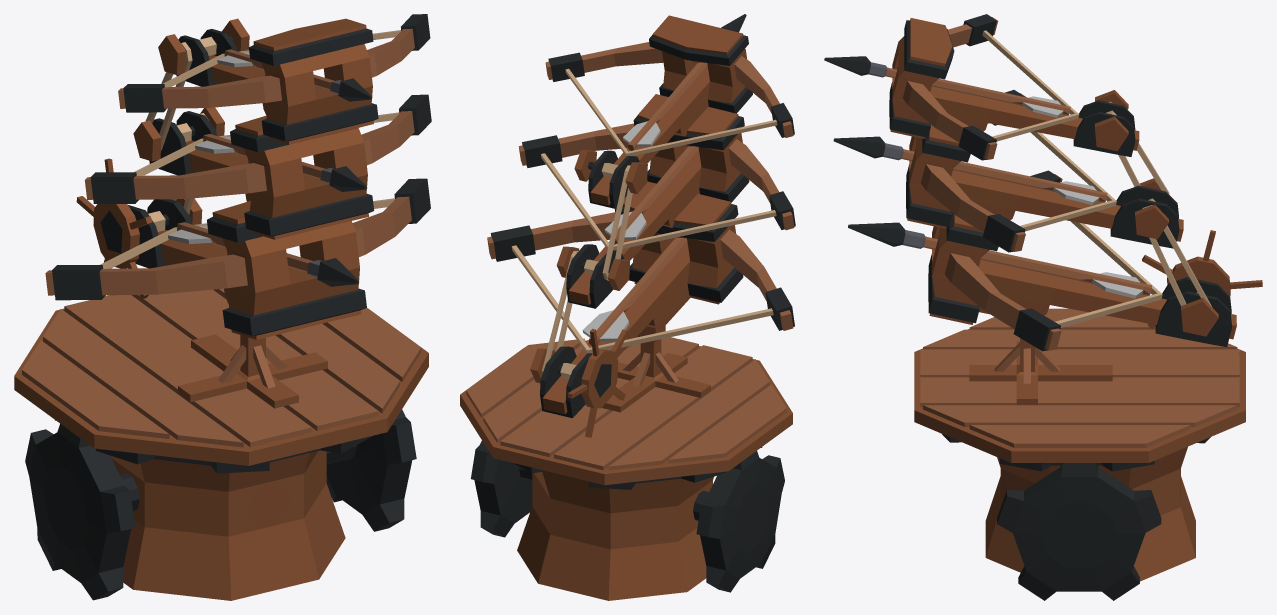
File: xbow-3.glb
3 views of the same model, side by side, from view 1: azimuth 30°, elevation 25°; view 2: azimuth 150°, elevation 25°; view 3: azimuth 270°, elevation 25° (orthographic). The views are drawn at different scales.
Visible parts, largest first — view 1: Crossbow003; view 2: Crossbow003; view 3: Crossbow003.
Boxes of the visible parts, left/top/right/bottom form: Crossbow003: left=14, top=14, right=431, bottom=600; Crossbow003: left=460, top=14, right=795, bottom=600; Crossbow003: left=824, top=14, right=1262, bottom=600.
Size of the model in its own units: 2.21 by 3.25 by 2.57.
1 material, 1 textured.
